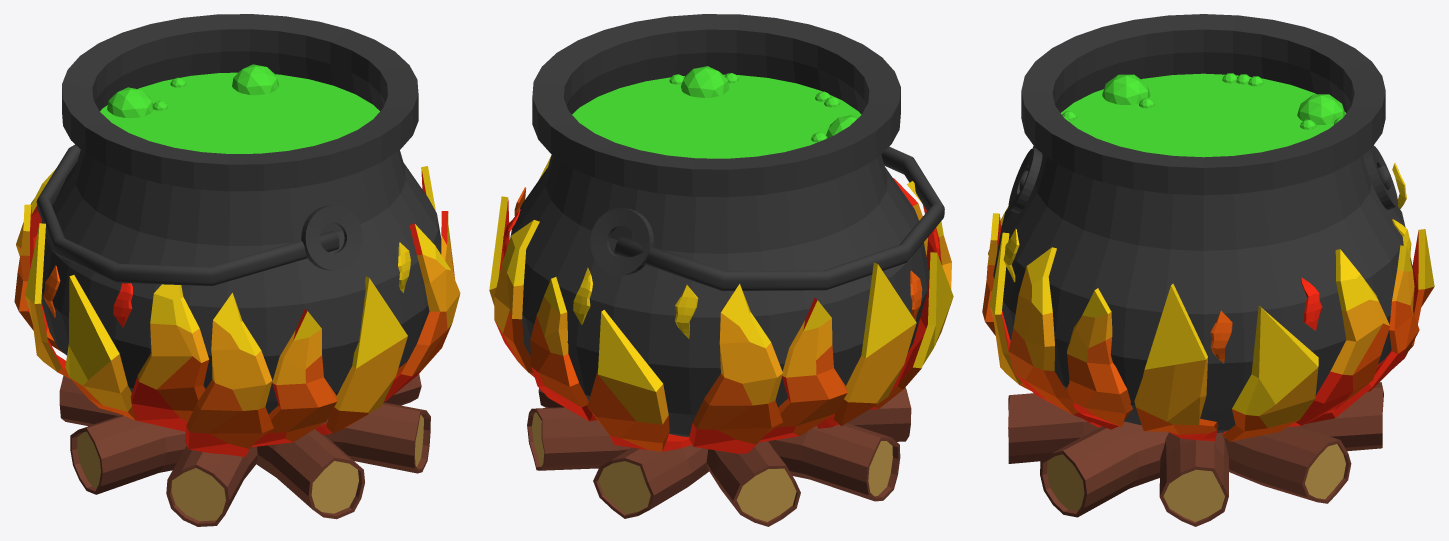
Rendered from CauldronFix.fbx.
3 views of the same model, side by side, from view 1: azimuth 30°, elevation 25°; view 2: azimuth 150°, elevation 25°; view 3: azimuth 270°, elevation 25° (orthographic). The views are drawn at different scales.
Visible parts, largest first — view 1: cauldron, flames, logs, bubbles; view 2: cauldron, flames, logs, bubbles; view 3: cauldron, flames, logs, bubbles.
Part boxes in pixels (box(x1,y1,x2,y2)): cauldron: box(36, 14, 441, 414); flames: box(14, 166, 460, 457); logs: box(59, 374, 430, 526); bubbles: box(107, 64, 278, 118); cauldron: box(510, 14, 944, 436); flames: box(489, 156, 953, 453); logs: box(527, 387, 911, 526); bubbles: box(669, 66, 858, 142); cauldron: box(993, 14, 1413, 432); flames: box(982, 162, 1434, 441); logs: box(1008, 382, 1383, 526); bubbles: box(1062, 73, 1345, 129).
Size of the model in its own units: 67.11 by 59.15 by 66.03.
